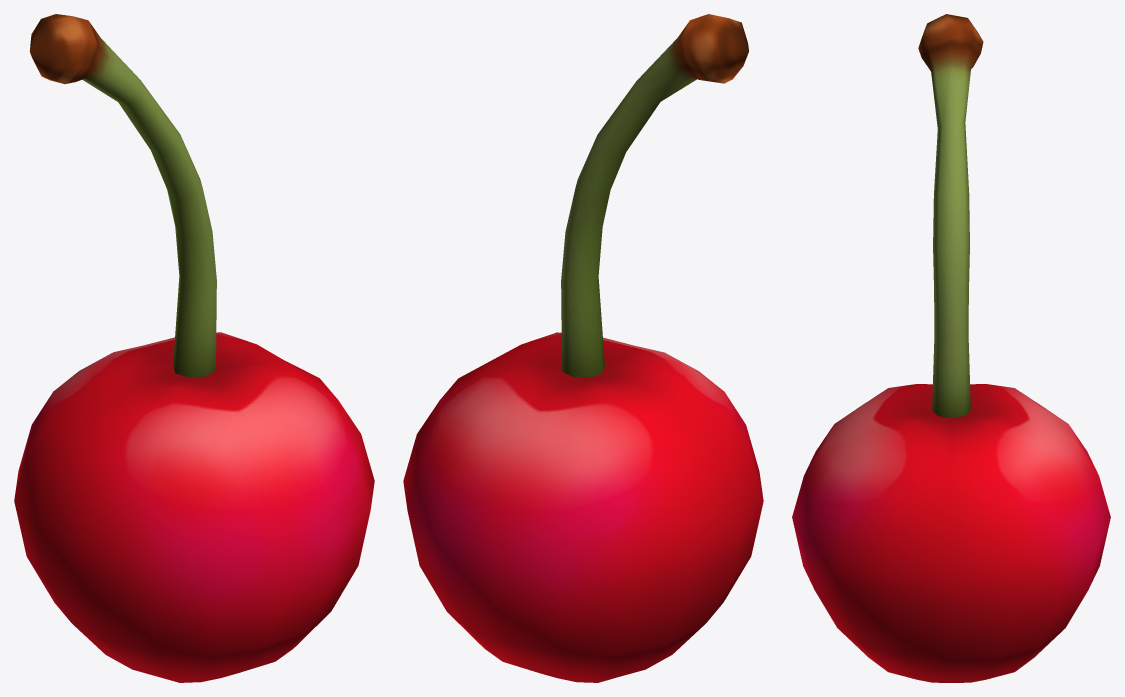
The model's file is Cherry_Red.fbx.
The picture shows the model from 3 angles, left to right: view 1: azimuth 30°, elevation 25°; view 2: azimuth 150°, elevation 25°; view 3: azimuth 270°, elevation 25°; orthographic projection. The views are drawn at different scales.
Visible parts, largest first — view 1: Cherry_Red; view 2: Cherry_Red; view 3: Cherry_Red.
Boxes of the visible parts, x1=… form: Cherry_Red: x1=14, y1=14, x2=374, y2=682; Cherry_Red: x1=403, y1=14, x2=763, y2=682; Cherry_Red: x1=792, y1=14, x2=1110, y2=682.
Bounding box in the file's own units: 14.95 × 30.2 × 14.61.
